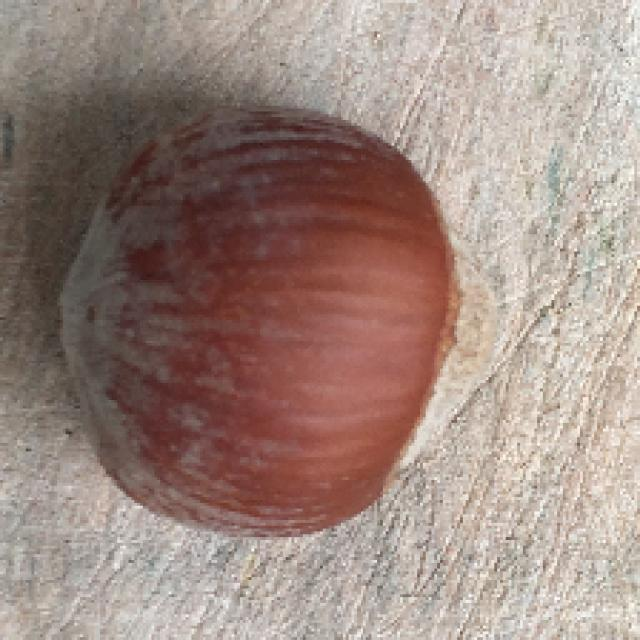qualityHazelnut: (48, 97, 521, 542)
